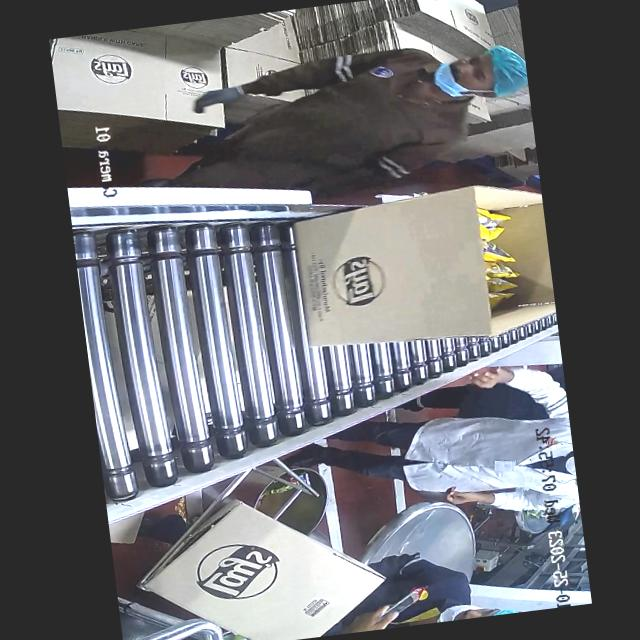salted: (472, 196, 538, 308)
